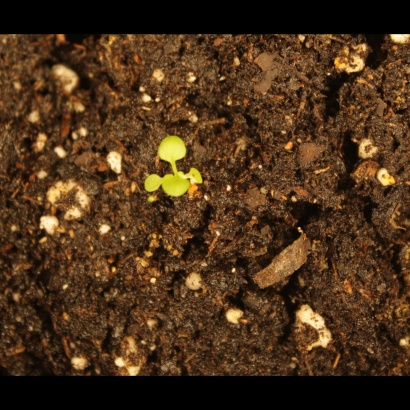leaf: (154, 132, 189, 165), (161, 171, 191, 201), (136, 169, 163, 196), (188, 166, 211, 189)
